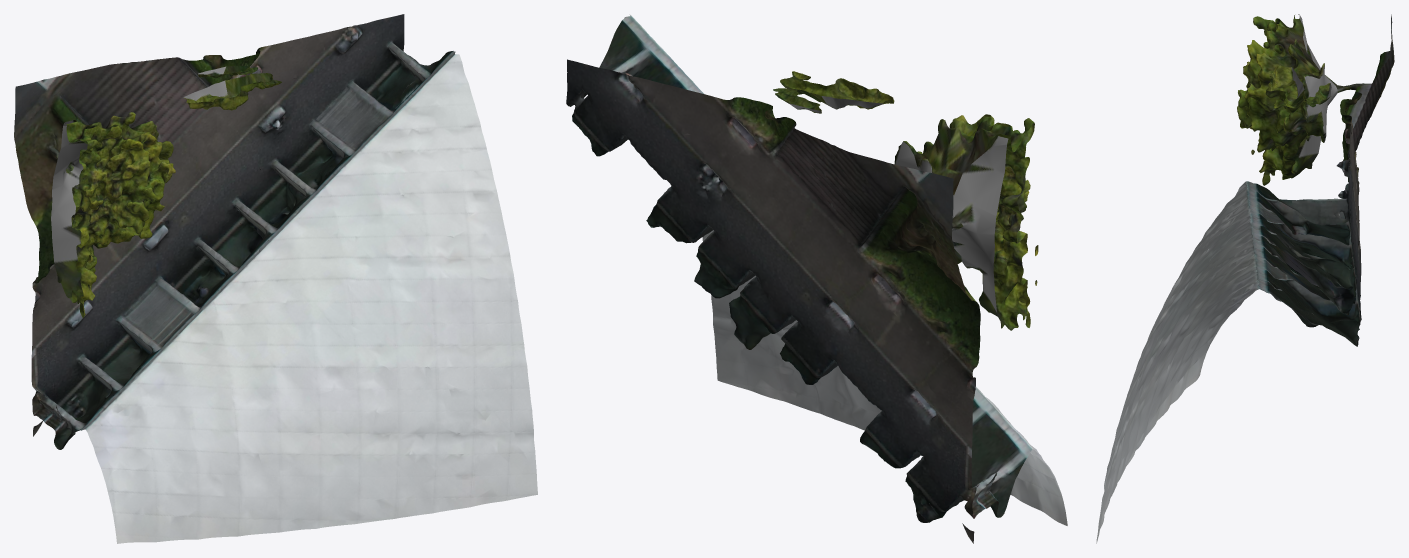
File: Tile_+011_+010.fbx
The picture shows the model from 3 angles, left to right: view 1: azimuth 30°, elevation 25°; view 2: azimuth 150°, elevation 25°; view 3: azimuth 270°, elevation 25°; orthographic projection. The views are drawn at different scales.
Parts seen in each view (by area): view 1: DefaultName; view 2: DefaultName; view 3: DefaultName.
Part boxes in pixels (x1,y1,x2,y2): DefaultName: (14,14,537,543); DefaultName: (566,14,1067,543); DefaultName: (1096,14,1394,543).
Bounding box in the file's own units: 22.54 × 22.54 × 16.85.
